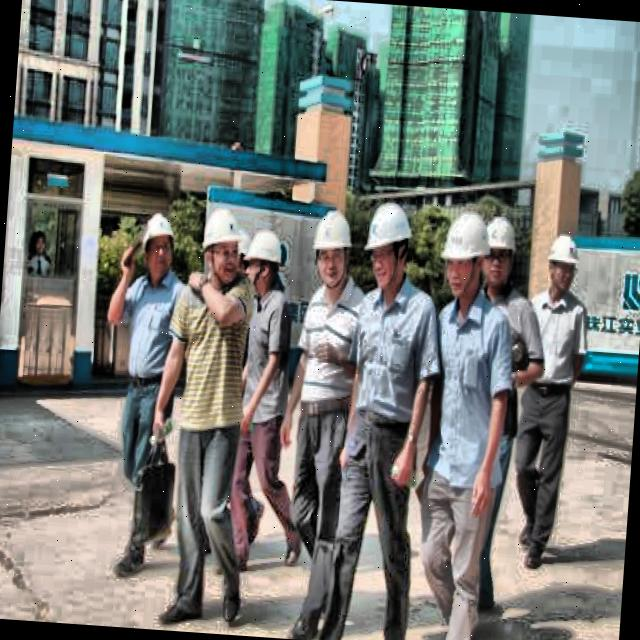helmet: (360, 195, 416, 294), (438, 207, 489, 303), (306, 205, 358, 293), (197, 203, 244, 286), (479, 214, 518, 294), (242, 224, 286, 294), (540, 230, 583, 296), (137, 208, 176, 279)
